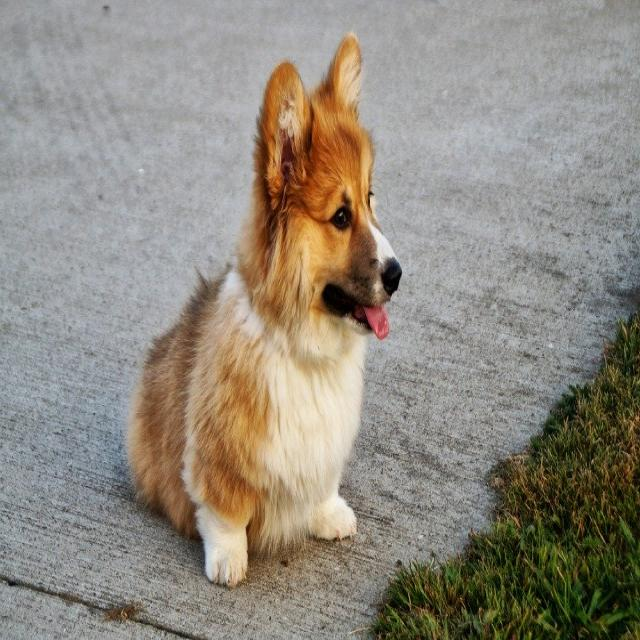CORGI: (99, 36, 399, 614)
